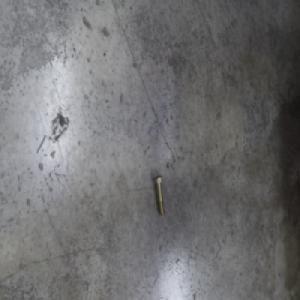Bolt: (157, 176, 170, 219)
